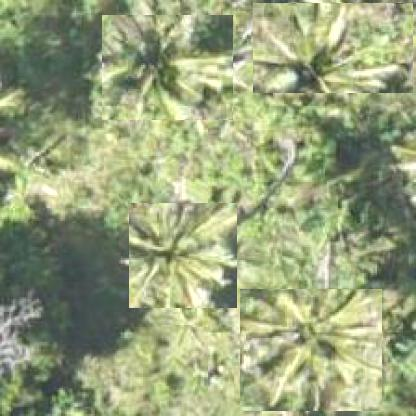coconut tree: (240, 288, 383, 411), (253, 2, 414, 93), (102, 14, 234, 120), (129, 202, 238, 308)
